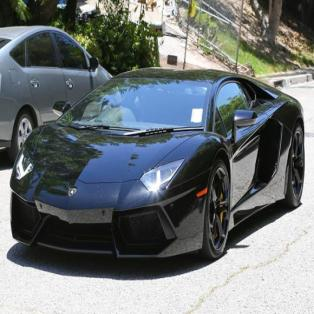Auto: (5, 69, 305, 266)
